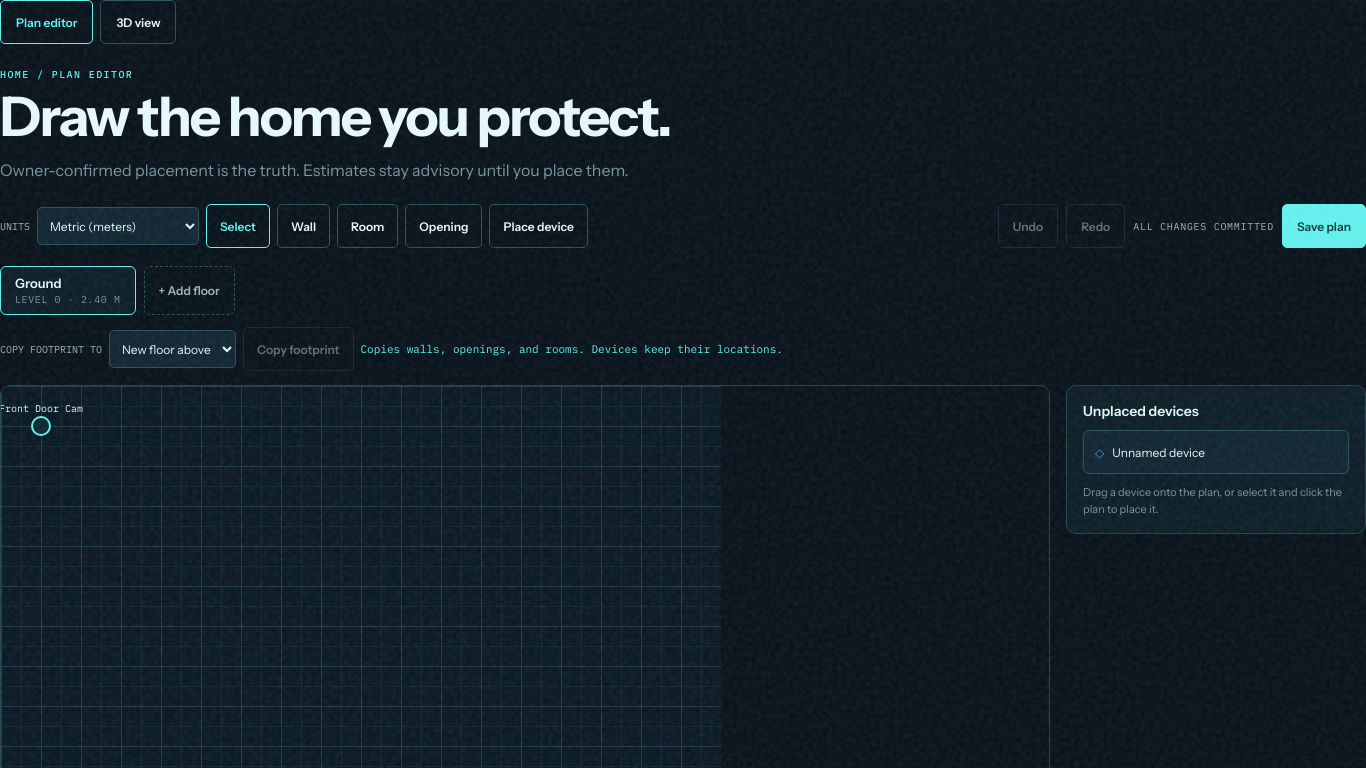
it: HomeView › switches to the plan editor with a notice when the twin falls back
Expected: the heading "Draw the home you protect." is shown, [0, 83, 671, 150]
Click the tab "3D view". click: (138, 22)
box: [100, 0, 176, 44]
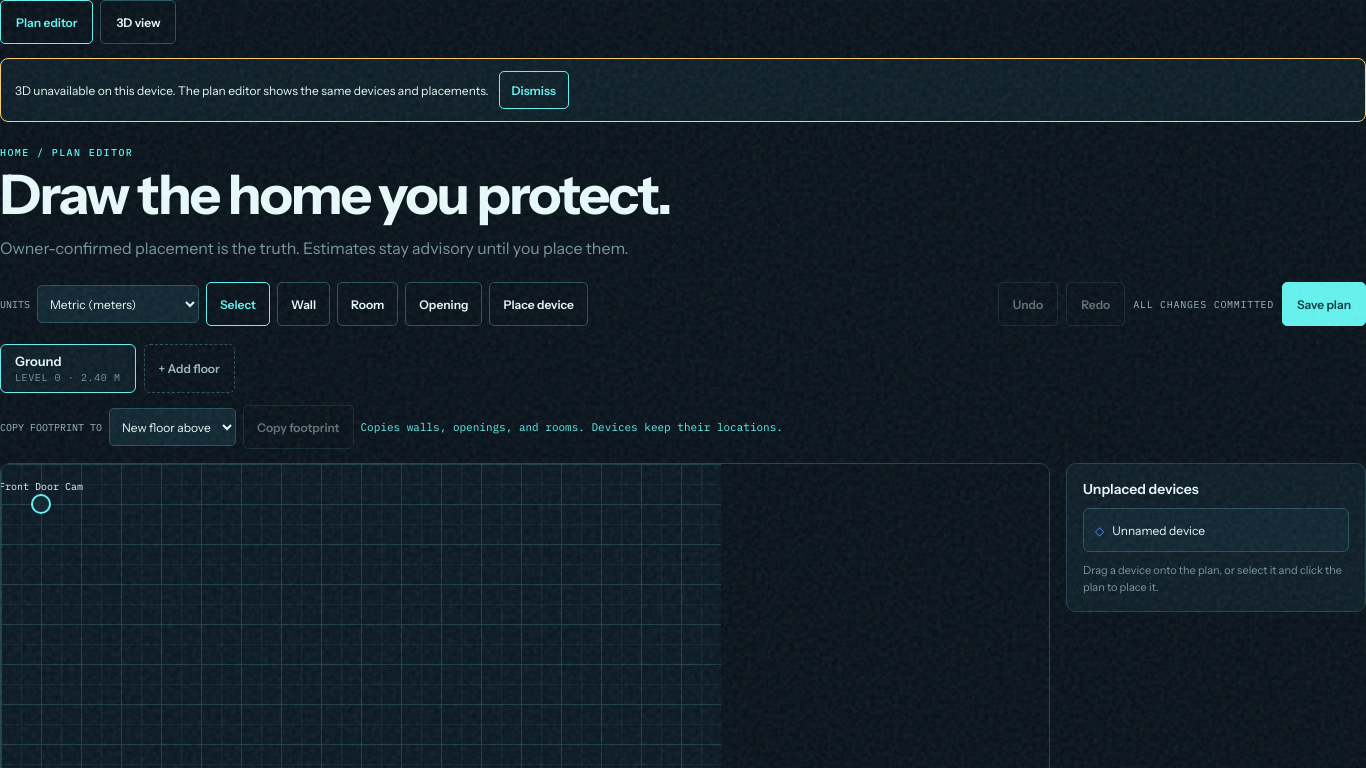
Expected: the text "3D unavailable on this device" is shown, [15, 82, 489, 98]
